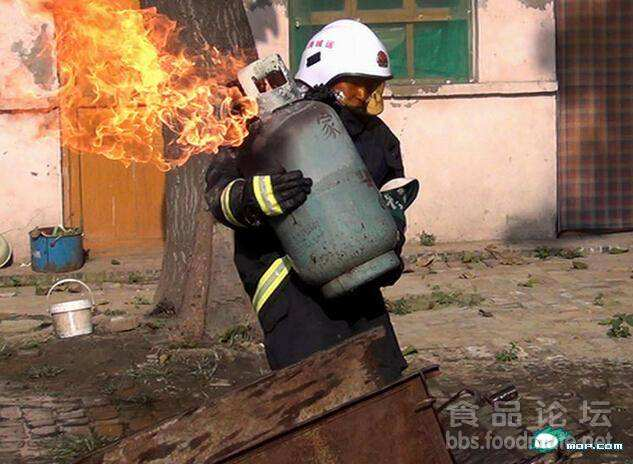fire: (16, 1, 245, 156)
